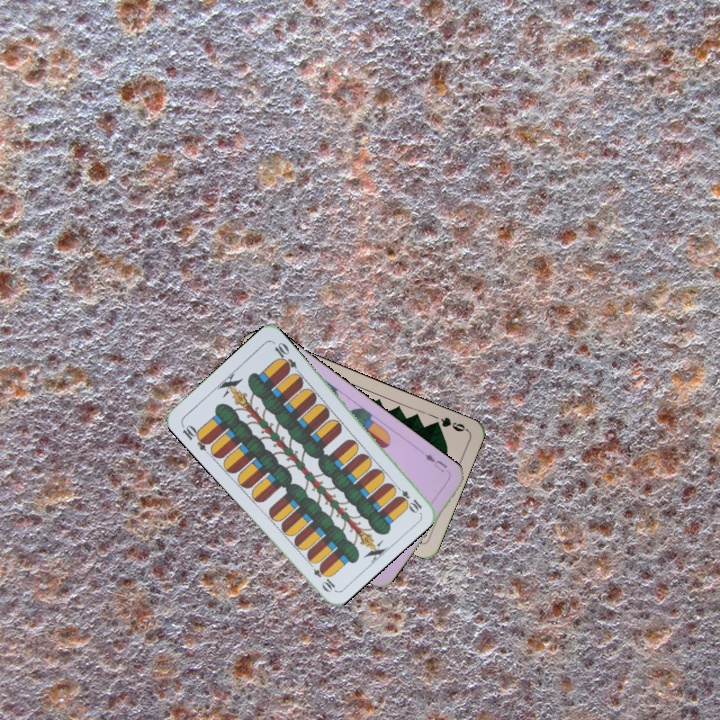E10: (177, 420, 213, 453), (391, 481, 425, 515)
EU: (420, 449, 450, 475)
G9: (429, 413, 470, 434)
